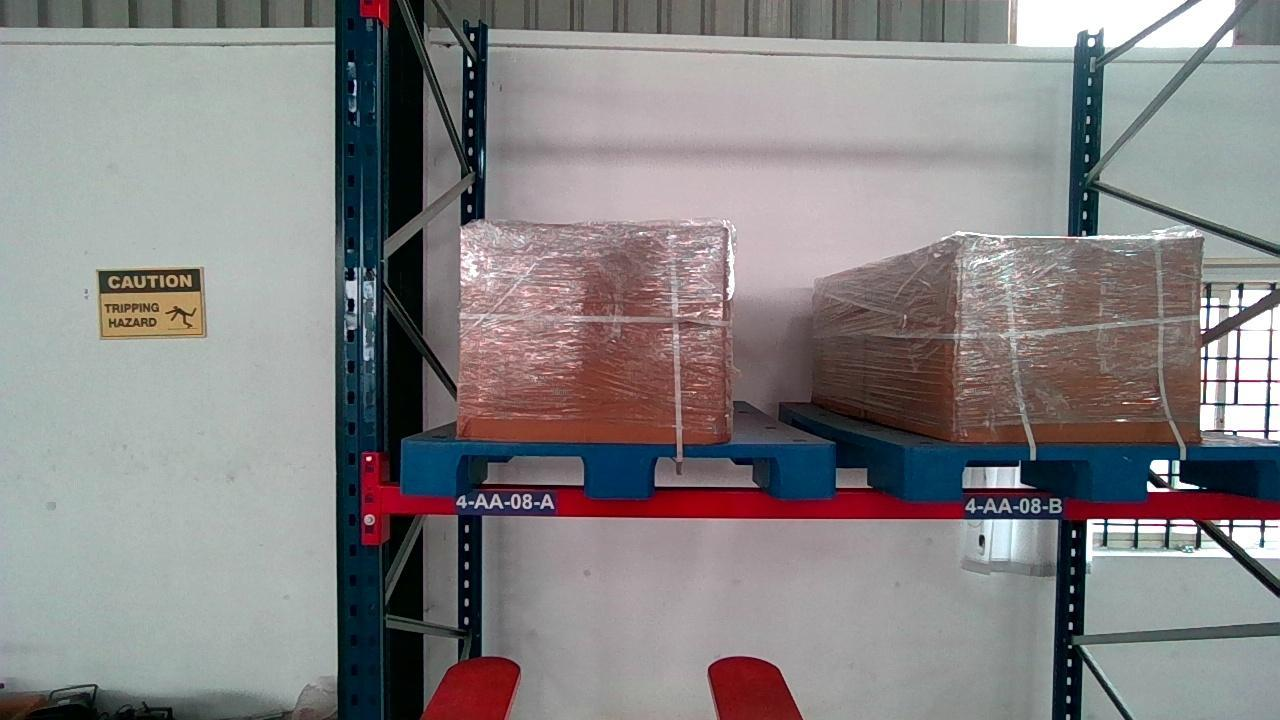h_rack: (385, 487, 1275, 515)
small_pallet: (400, 438, 837, 496), (905, 442, 1280, 499)
